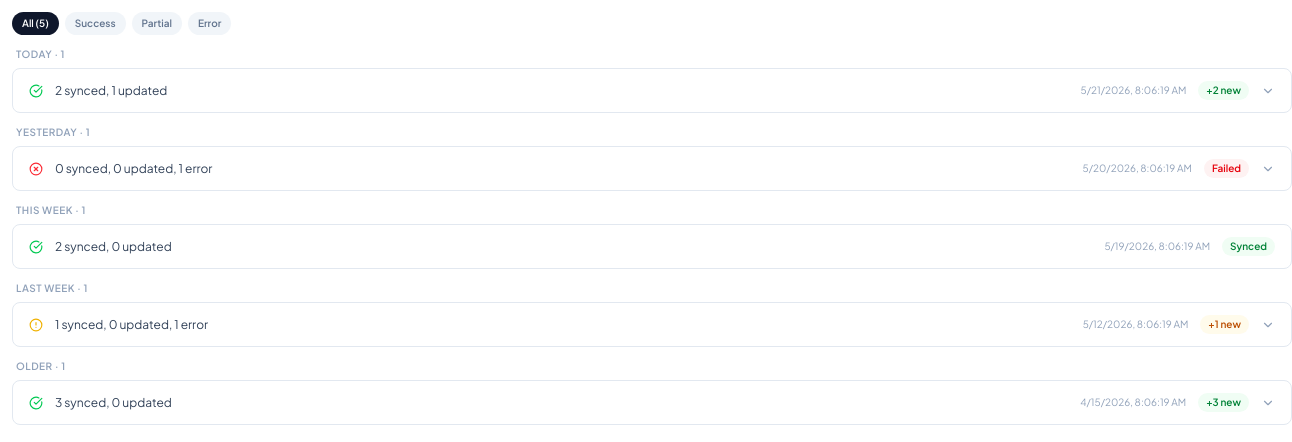
Test: History › filter buttons narrow the list and hide empty groups
Click the button "Error" at (210, 24), box [188,12,231,35]
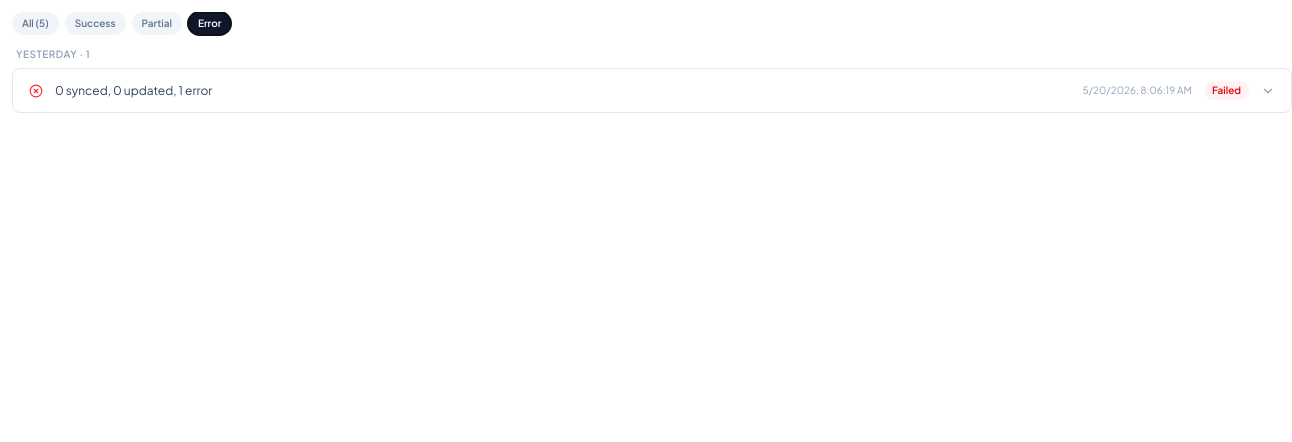
Check: the text "Yesterday · 1" is shown, box [16,48,90,60]
Check: the number of list items is 1, box [12,68,1291,113]
Check: the text "Today · 1" is gone
